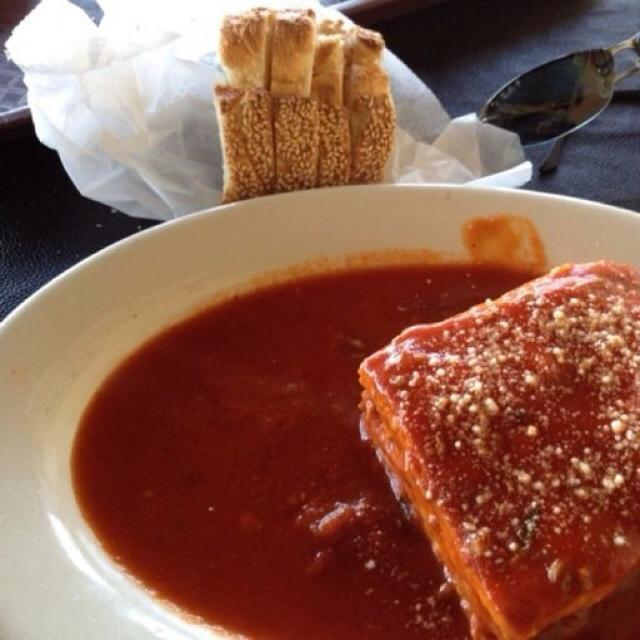Lasagna: (342, 246, 640, 638)
